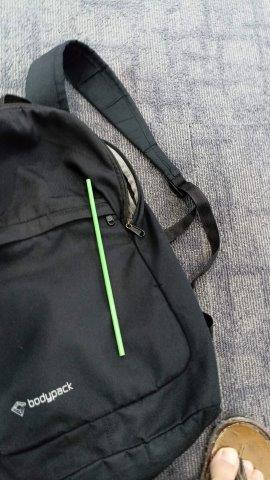sedotan: (86, 179, 124, 356)
